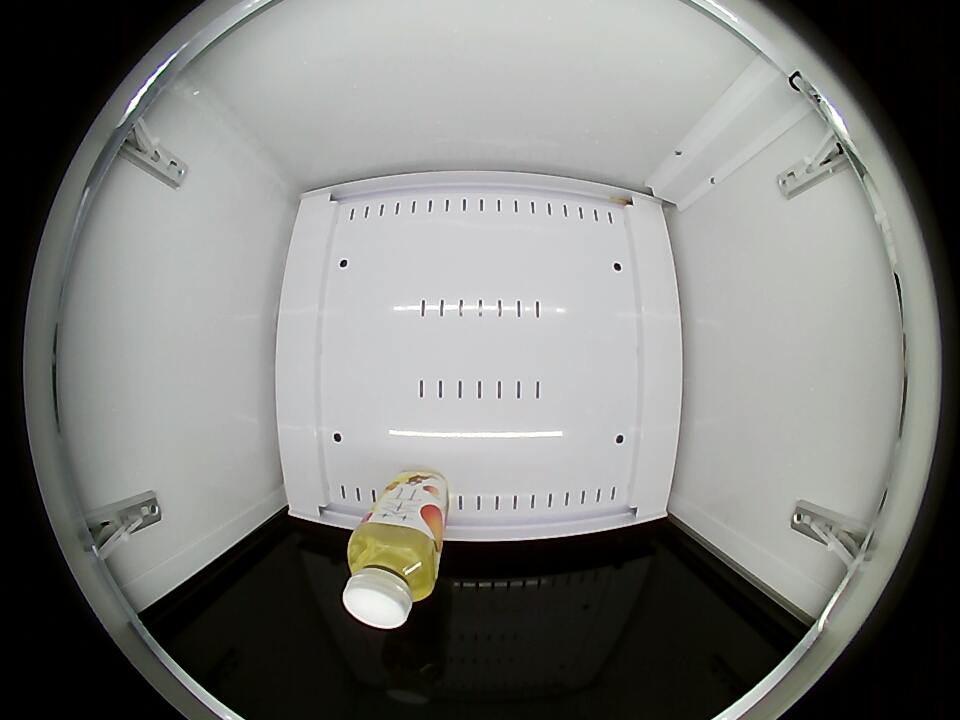chapai2: (343, 522, 442, 629)
